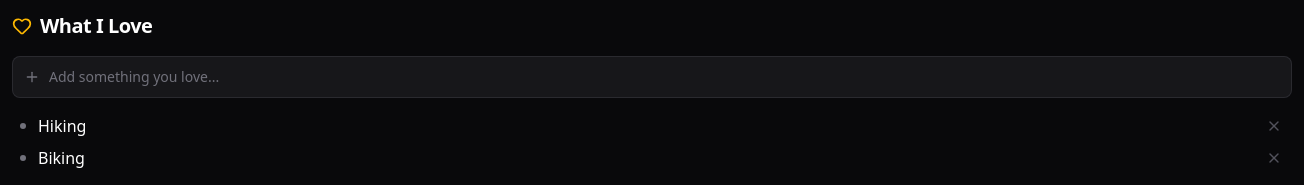
LovesEditor › allows cancelling inline edit mode on Escape
The width and height of the screenshot is (1304, 185).
Click the text "Hiking" at (62, 126), box [38, 115, 86, 137]
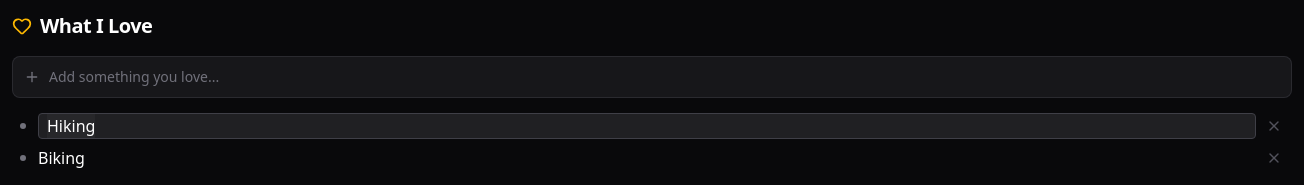
Replace the text in the field showing "Hiking" with "Mountain Hiking" at (647, 126), box [38, 113, 1256, 139]
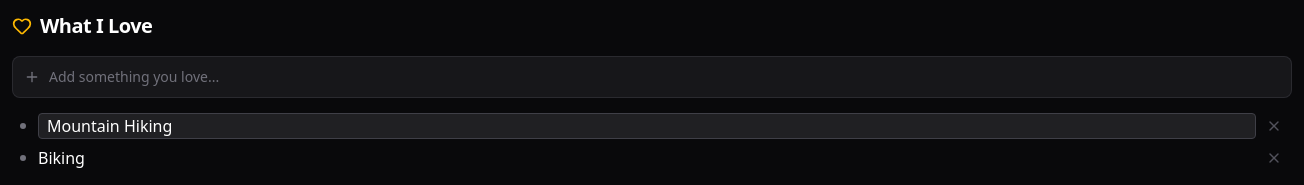
Press Escape in the field showing "Hiking", box [38, 113, 1256, 139]
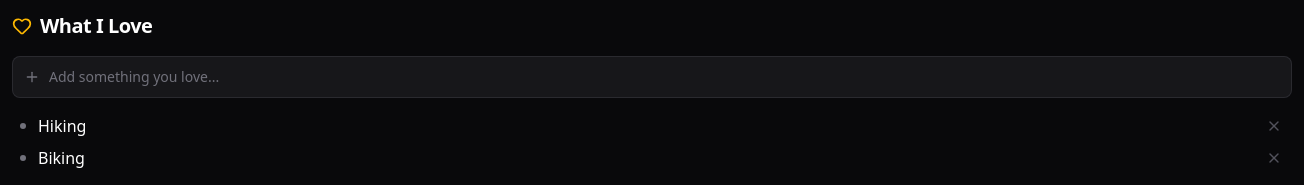
Result: the text "Hiking" is shown at [38, 115, 86, 137]
